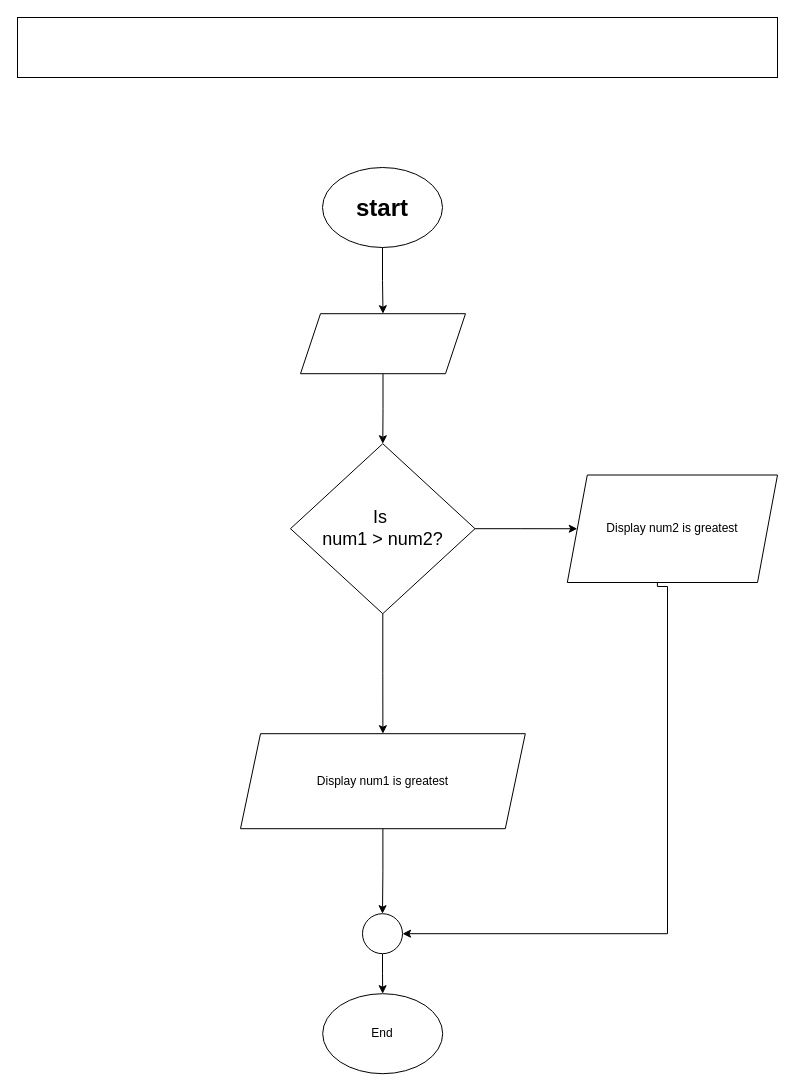
The diagram is 795 pixels wide and 1092 high, and some of its shapes have lost their labels. Here are the shapes that lost their labels. From the top down, the centre of each, then its label:
At point (397, 47): "Write an flowchart to find greatest among two numbers entered by the user.".
At point (383, 343): "input num1 & num2".
